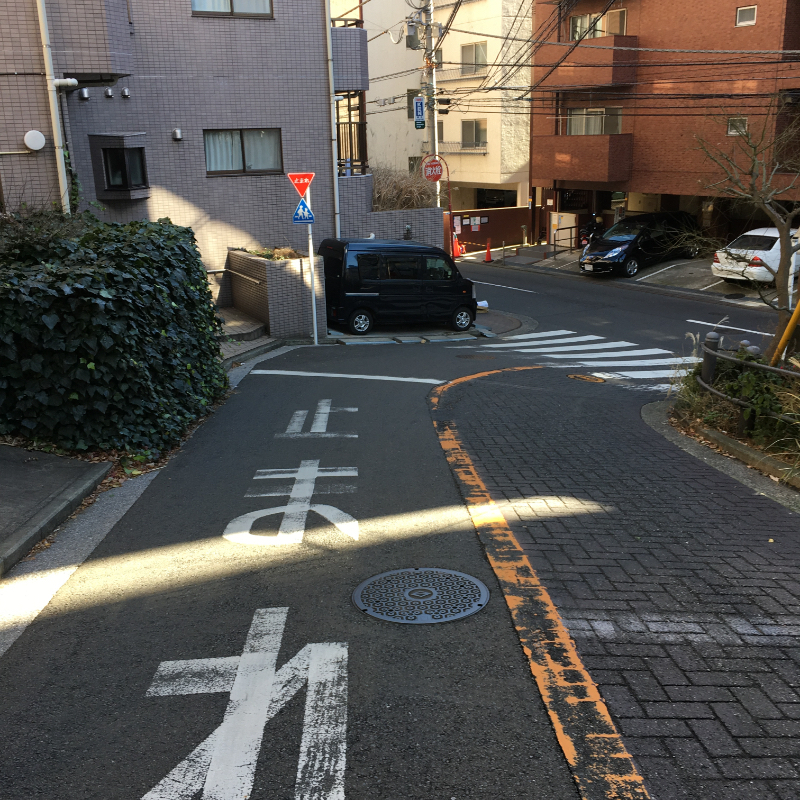STOP: (283, 170, 317, 198)
